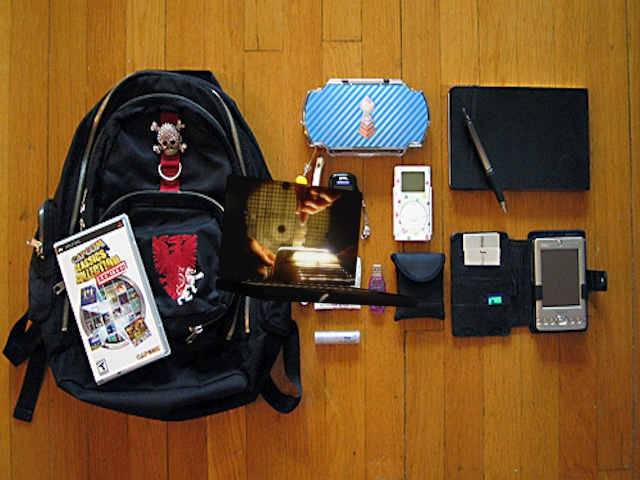laptop_computer: (209, 169, 424, 312)
